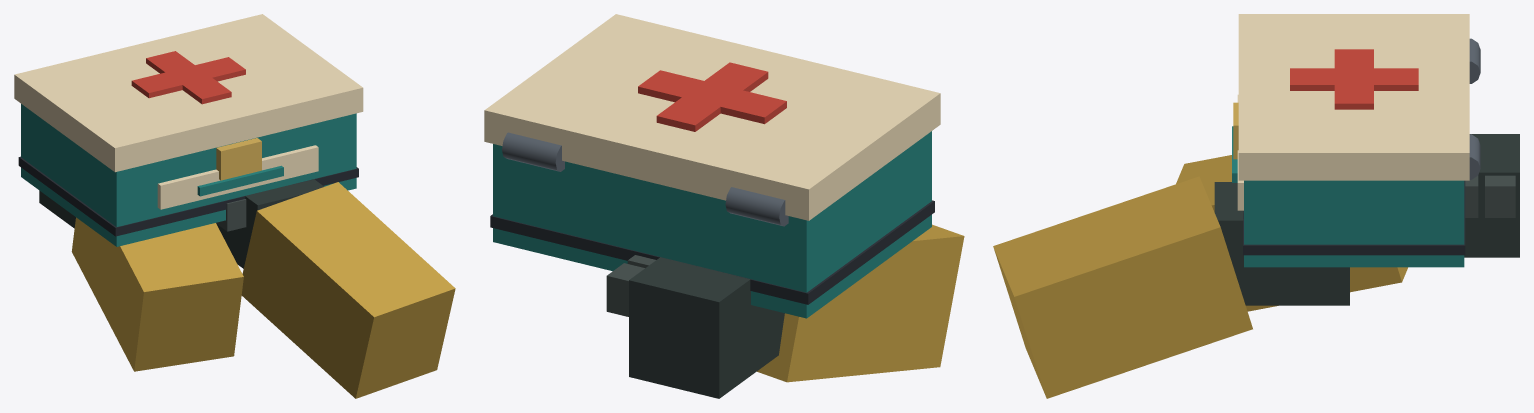
File: med_tin.glb
The picture shows the model from 3 angles, left to right: view 1: azimuth 30°, elevation 25°; view 2: azimuth 150°, elevation 25°; view 3: azimuth 270°, elevation 25°; orthographic projection. The views are drawn at different scales.
Parts seen in each view (by area): view 1: _MeshInstance3D_4166, _MeshInstance3D_4149, _MeshInstance3D_4160, _MeshInstance3D_4148, _MeshInstance3D_4156, _MeshInstance3D_4153, _MeshInstance3D_4165, _MeshInstance3D_4151, _MeshInstance3D_4150, _MeshInstance3D_4152, _MeshInstance3D_4157, _MeshInstance3D_4169 (+1 smaller); view 2: _MeshInstance3D_4149, _MeshInstance3D_4148, _MeshInstance3D_4160, _MeshInstance3D_4159, _MeshInstance3D_4153, _MeshInstance3D_4150, _MeshInstance3D_4151, _MeshInstance3D_4154, _MeshInstance3D_4155, _MeshInstance3D_4161; view 3: _MeshInstance3D_4166, _MeshInstance3D_4149, _MeshInstance3D_4148, _MeshInstance3D_4165, _MeshInstance3D_4159, _MeshInstance3D_4153, _MeshInstance3D_4160, _MeshInstance3D_4150, _MeshInstance3D_4151, _MeshInstance3D_4161, _MeshInstance3D_4162, _MeshInstance3D_4154 (+1 smaller).
Part boxes in pixels (left/top/right/bottom): _MeshInstance3D_4166: left=241, top=182, right=455, bottom=398; _MeshInstance3D_4149: left=14, top=14, right=363, bottom=172; _MeshInstance3D_4160: left=71, top=217, right=243, bottom=371; _MeshInstance3D_4148: left=21, top=104, right=356, bottom=246; _MeshInstance3D_4156: left=157, top=145, right=318, bottom=209; _MeshInstance3D_4153: left=18, top=156, right=358, bottom=236; _MeshInstance3D_4165: left=216, top=179, right=323, bottom=268; _MeshInstance3D_4151: left=146, top=51, right=231, bottom=104; _MeshInstance3D_4150: left=131, top=57, right=245, bottom=98; _MeshInstance3D_4152: left=216, top=138, right=261, bottom=180; _MeshInstance3D_4157: left=197, top=165, right=283, bottom=196; _MeshInstance3D_4169: left=216, top=199, right=246, bottom=231; _MeshInstance3D_4149: left=484, top=14, right=940, bottom=220; _MeshInstance3D_4148: left=493, top=131, right=931, bottom=318; _MeshInstance3D_4160: left=757, top=224, right=964, bottom=382; _MeshInstance3D_4159: left=629, top=257, right=784, bottom=398; _MeshInstance3D_4153: left=490, top=200, right=934, bottom=304; _MeshInstance3D_4150: left=638, top=70, right=786, bottom=124; _MeshInstance3D_4151: left=656, top=62, right=768, bottom=131; _MeshInstance3D_4154: left=725, top=187, right=788, bottom=226; _MeshInstance3D_4155: left=502, top=132, right=564, bottom=171; _MeshInstance3D_4161: left=606, top=263, right=644, bottom=316; _MeshInstance3D_4166: left=993, top=176, right=1252, bottom=398; _MeshInstance3D_4149: left=1238, top=14, right=1469, bottom=180; _MeshInstance3D_4148: left=1244, top=180, right=1464, bottom=267; _MeshInstance3D_4165: left=1214, top=182, right=1349, bottom=305; _MeshInstance3D_4159: left=1464, top=134, right=1519, bottom=257; _MeshInstance3D_4153: left=1243, top=180, right=1465, bottom=255; _MeshInstance3D_4160: left=1176, top=155, right=1407, bottom=311; _MeshInstance3D_4150: left=1334, top=49, right=1373, bottom=109; _MeshInstance3D_4151: left=1290, top=68, right=1418, bottom=90; _MeshInstance3D_4161: left=1485, top=175, right=1515, bottom=217; _MeshInstance3D_4162: left=1465, top=176, right=1478, bottom=217; _MeshInstance3D_4154: left=1469, top=38, right=1480, bottom=83.
Size of the model in its own units: 0.151 by 0.1307 by 0.2417.
